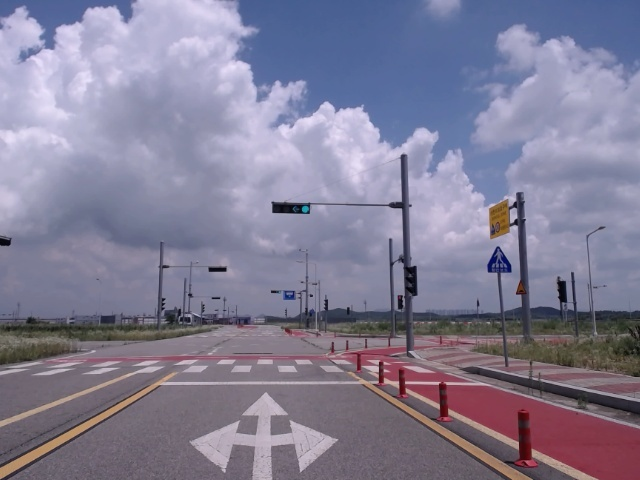all_green_4: (273, 202, 309, 215)
